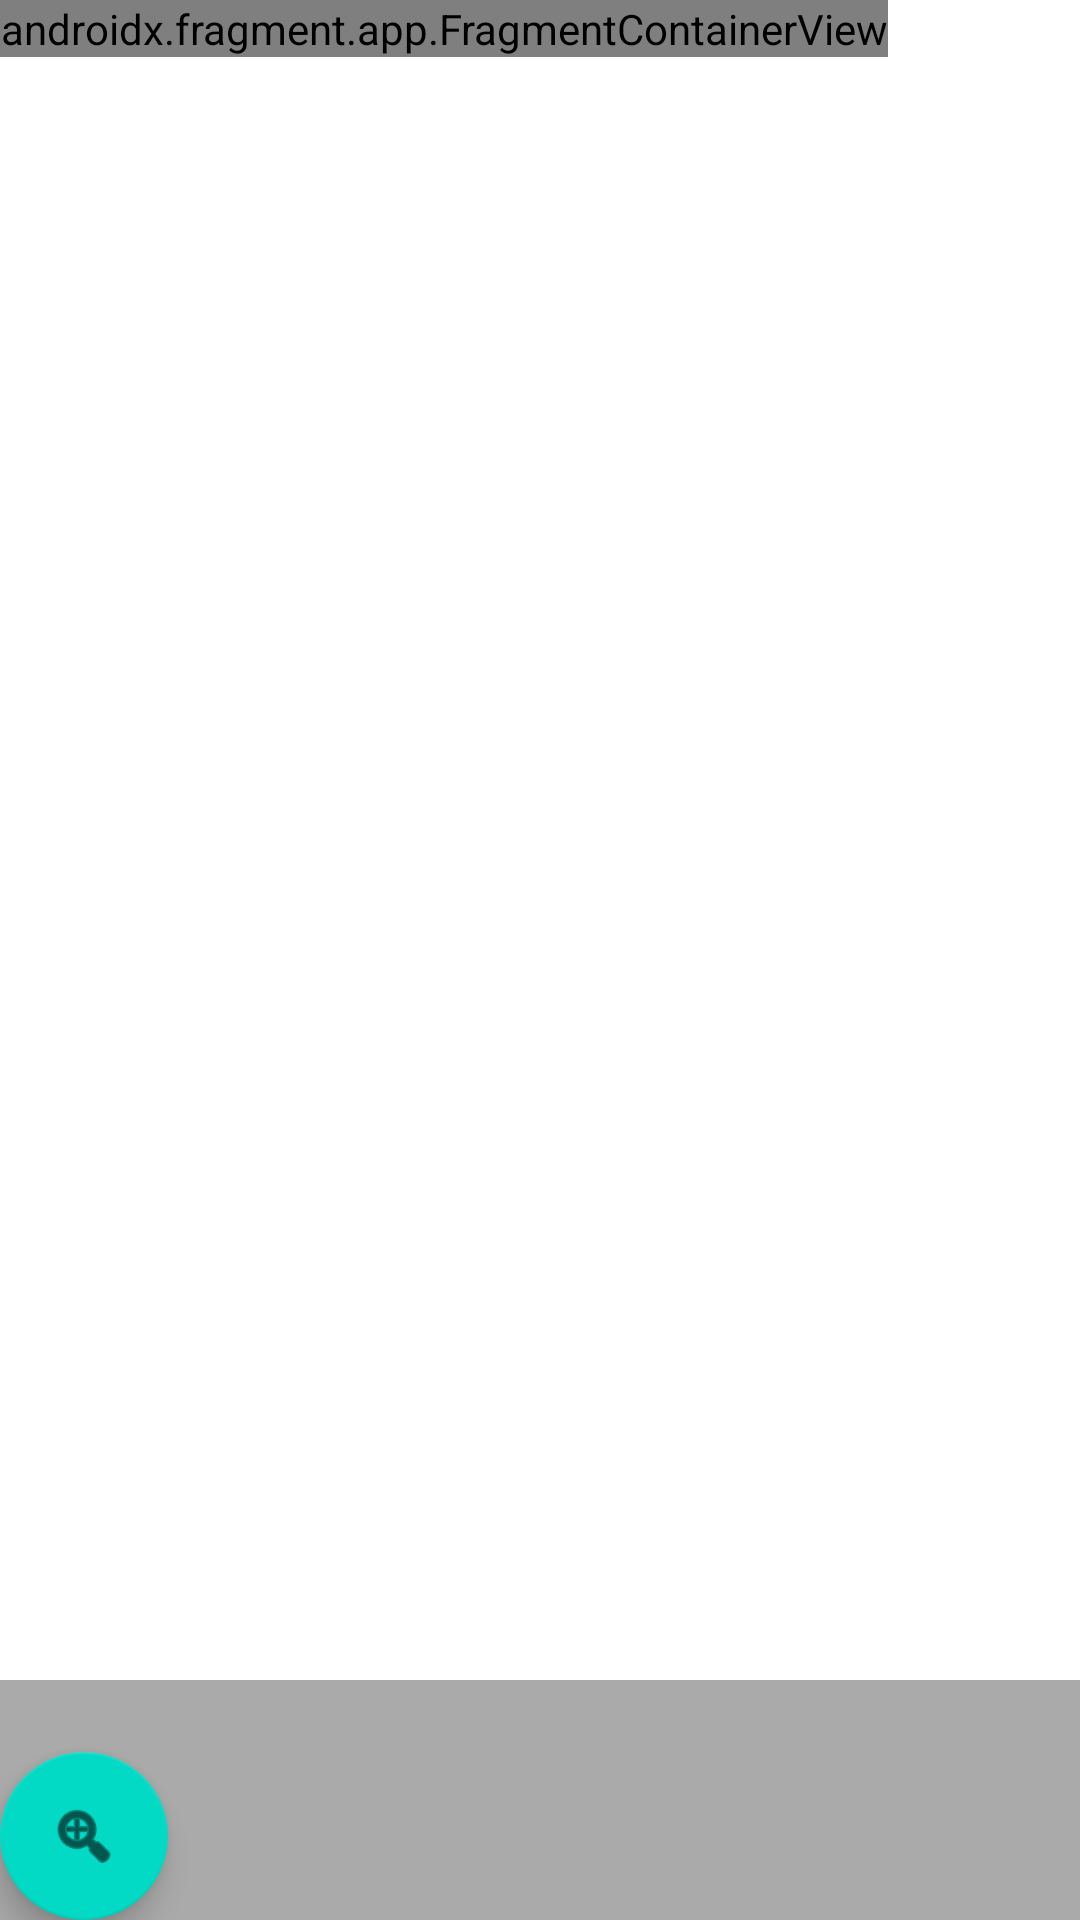

Where icons sit on this 1080×1920 app screen, as Rect(x1, y1, x2, y2):
zoom: Rect(0, 1752, 168, 1920)
